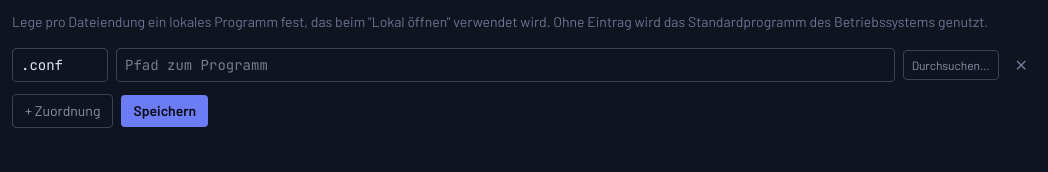
Scenario: FileTypeSettings (Spec 0054, Teil 5) › 'Durchsuchen…' fills the path field from the native file dialog
Expected: the field showing ".conf" is shown, [12,48,108,82]
Step 1. Click the button "Durchsuchen…" → (951, 65), box [903,50,999,80]
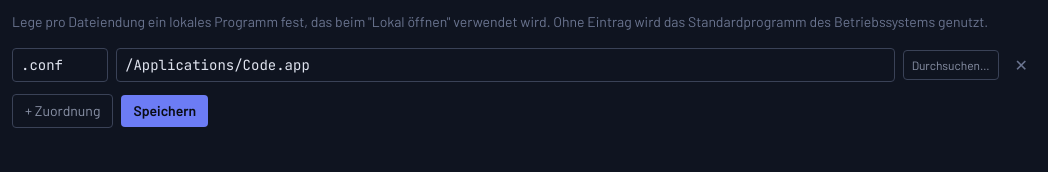
Result: the 2nd field showing "/Applications/Code.app" is shown at [116,48,895,82]
